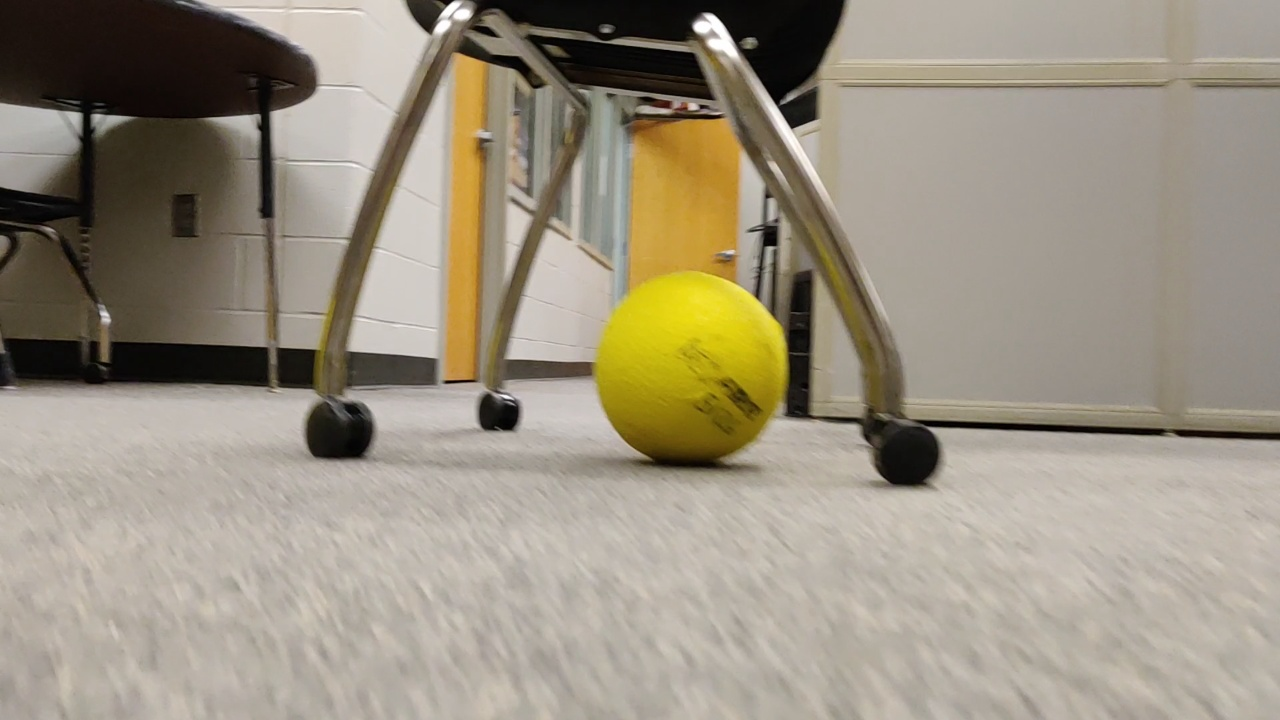Ball: (599, 271, 791, 469)
